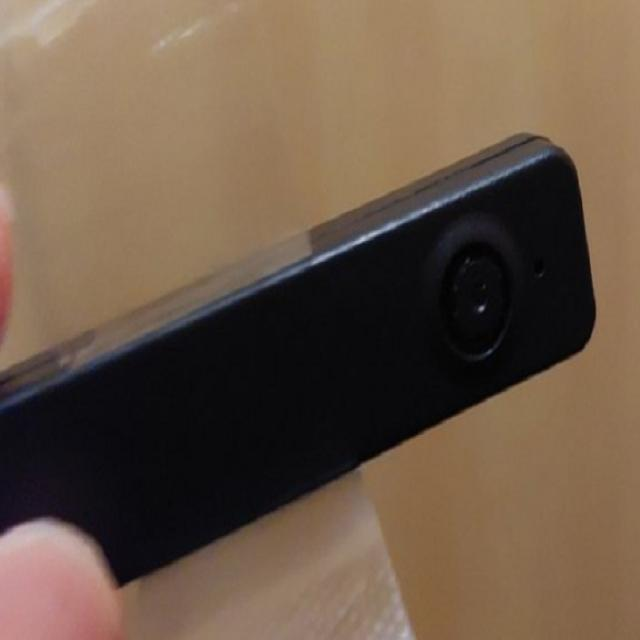hidden camera: (469, 281, 488, 316)
